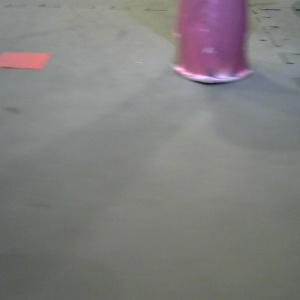right: (172, 1, 254, 83)
